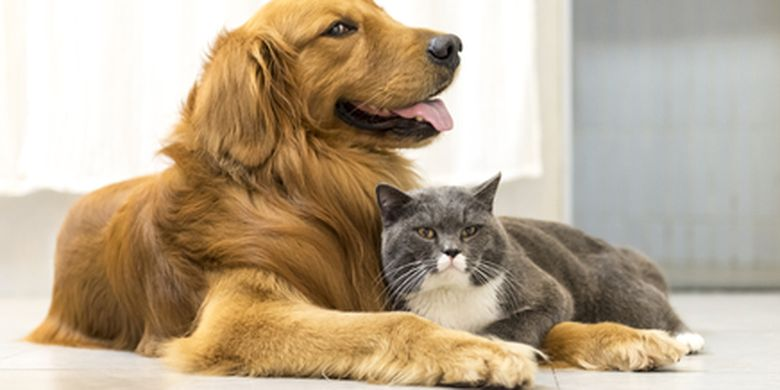anjing: (56, 0, 481, 170)
kucing: (364, 170, 713, 346)
